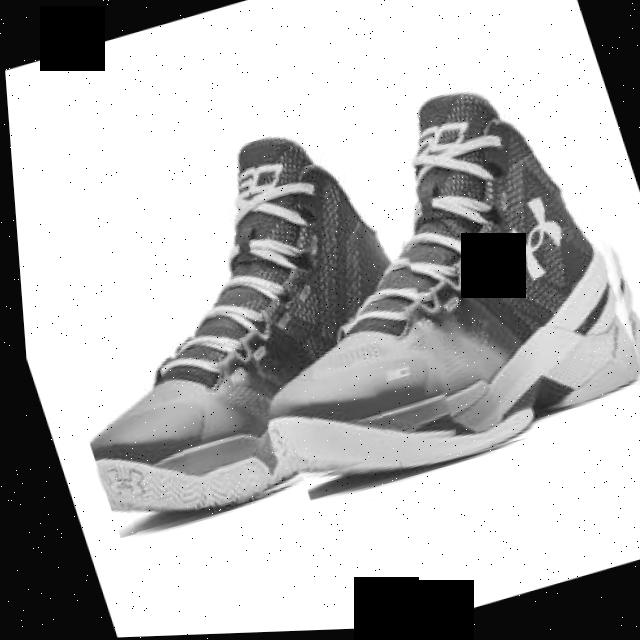shoe: (7, 107, 472, 540), (191, 58, 640, 505)
